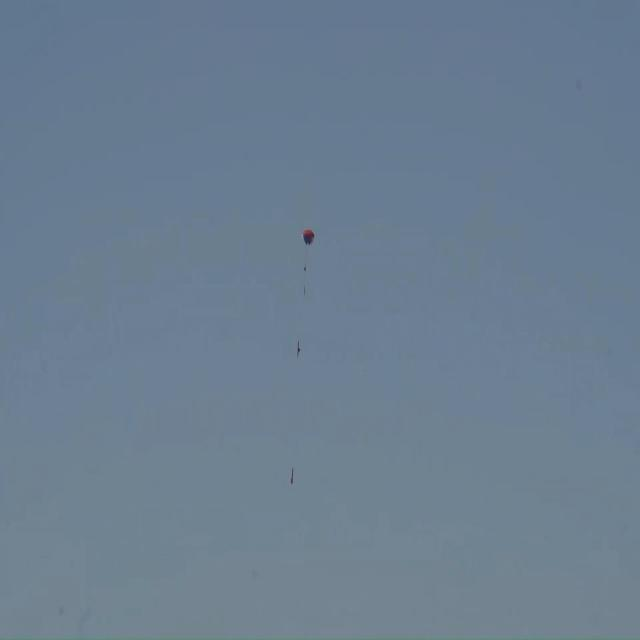Rocket: (290, 468, 294, 484)
